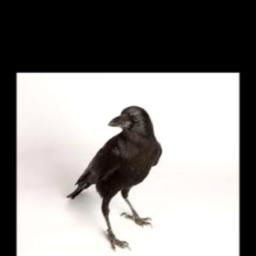Crow: (67, 105, 163, 252)
